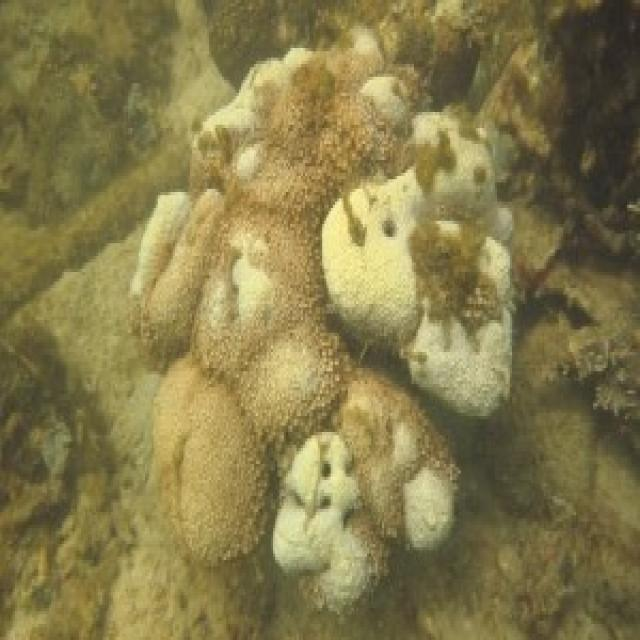Bleached: (404, 222, 511, 411), (274, 436, 385, 612), (325, 167, 423, 347), (193, 52, 312, 177), (408, 113, 513, 244), (131, 196, 189, 302), (404, 468, 453, 548), (362, 81, 411, 135)
Healthy: (142, 55, 391, 561)
